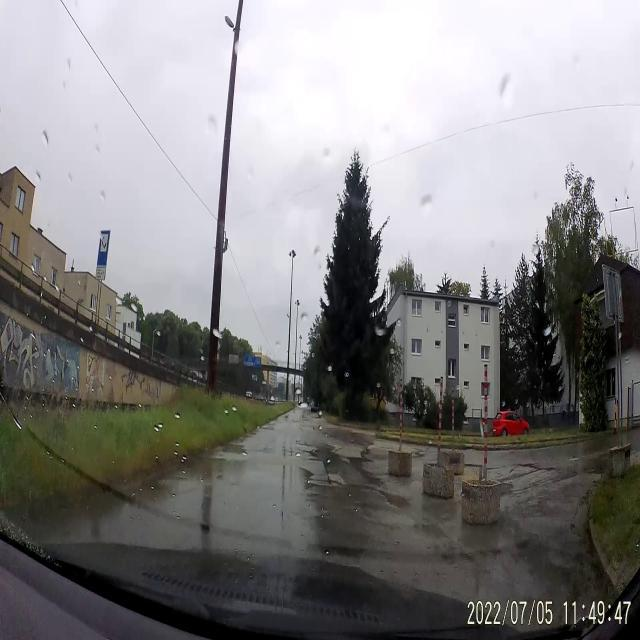Pothole: (300, 467, 346, 495)
